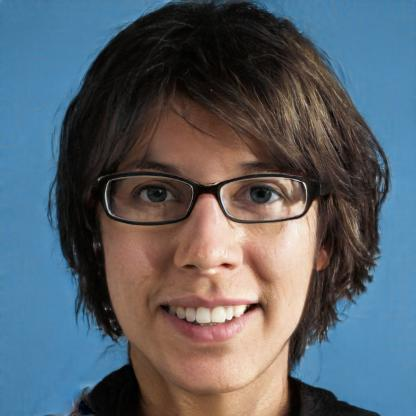glasses: (96, 169, 315, 228)
